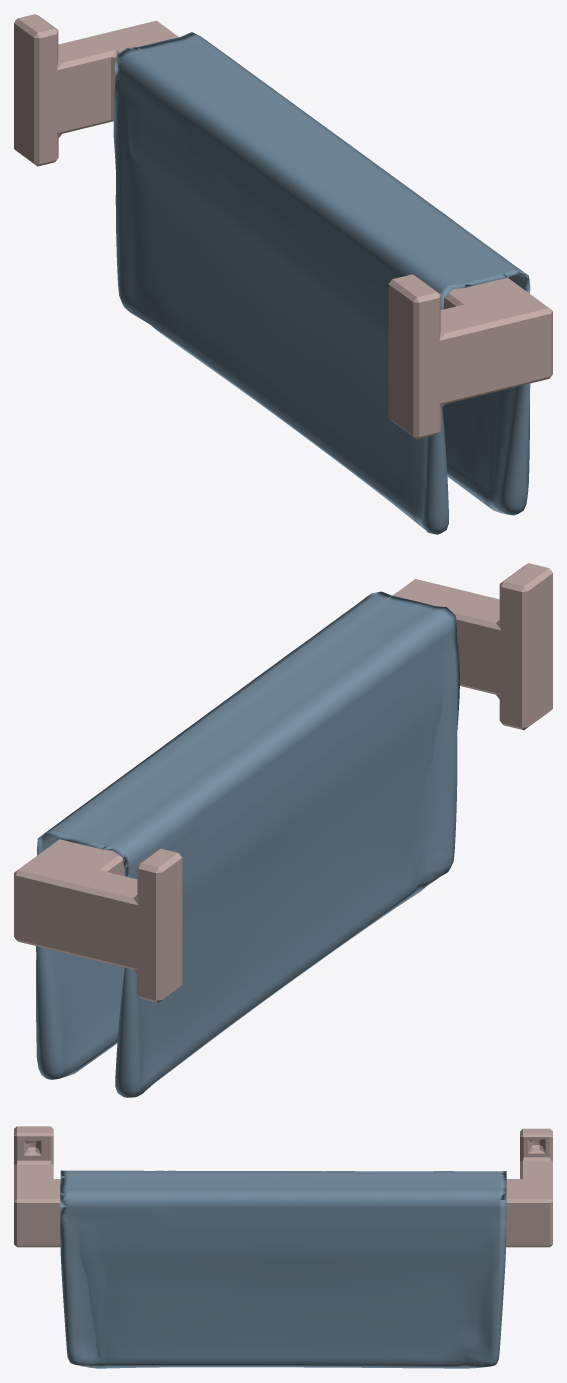
Rendered from keztorloblend.fbx.
The picture shows the model from 3 angles, top to bottom: view 1: azimuth 30°, elevation 25°; view 2: azimuth 150°, elevation 25°; view 3: azimuth 270°, elevation 25°; orthographic projection. The views are drawn at different scales.
Visible parts, largest first — view 1: Plane, Cube; view 2: Plane, Cube; view 3: Plane, Cube.
Boxes of the visible parts, x1,y1,x2,y2 form: Plane: (113,32,530,534); Cube: (14,14,552,439); Plane: (36,591,459,1097); Cube: (14,563,552,1002); Plane: (60,1170,506,1368); Cube: (14,1126,552,1247).
Bounding box in the file's own units: 58.85 × 100 × 248.
